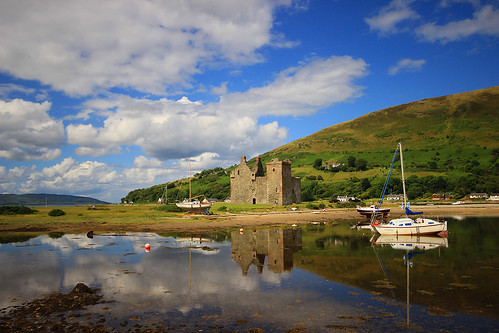boat: (365, 143, 454, 241), (165, 158, 216, 214)
building: (226, 160, 300, 209)
mountain: (167, 79, 499, 198)
river: (1, 222, 494, 333)
sky: (6, 1, 499, 187)
